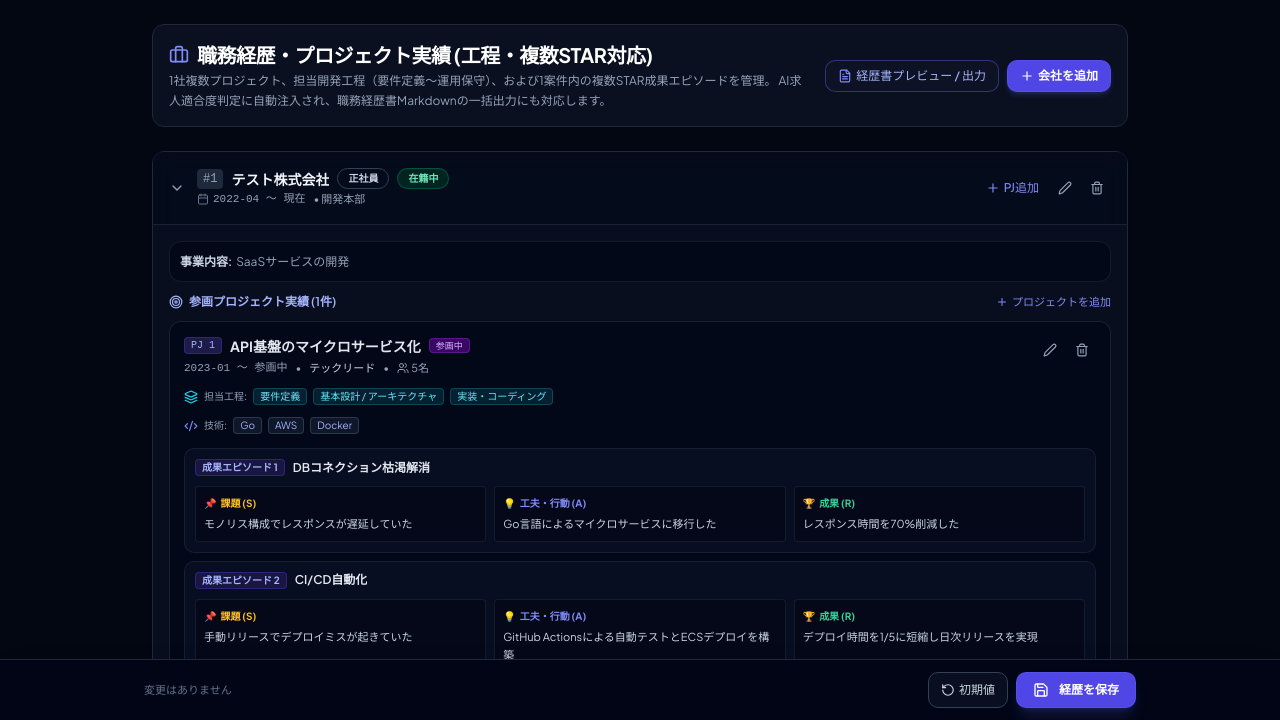
it: CareerHistoryView Component › opens resume markdown preview and exports phases & multiple STAR episodes
The image size is (1280, 720).
Expected: the heading "職務経歴・プロジェクト実績 (工程・複数STAR対応)" is shown, x1=169 y1=42 x2=652 y2=67
Click the button "経歴書プレビュー / 出力". click: (912, 76)
box: x1=825 y1=60 x2=999 y2=92
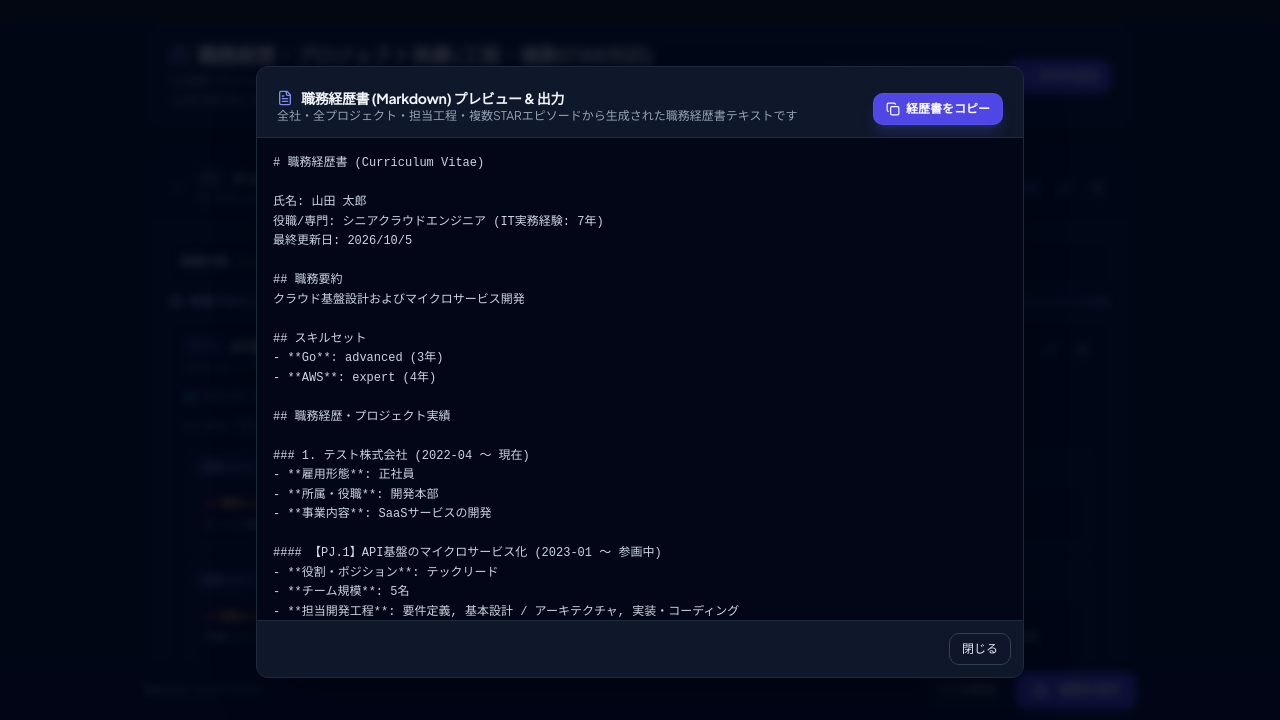
Expected: the heading "職務経歴書 (Markdown) プレビュー & 出力" is shown, x1=277 y1=89 x2=564 y2=107
Expected: the button "経歴書をコピー" is shown, x1=873 y1=93 x2=1003 y2=125
